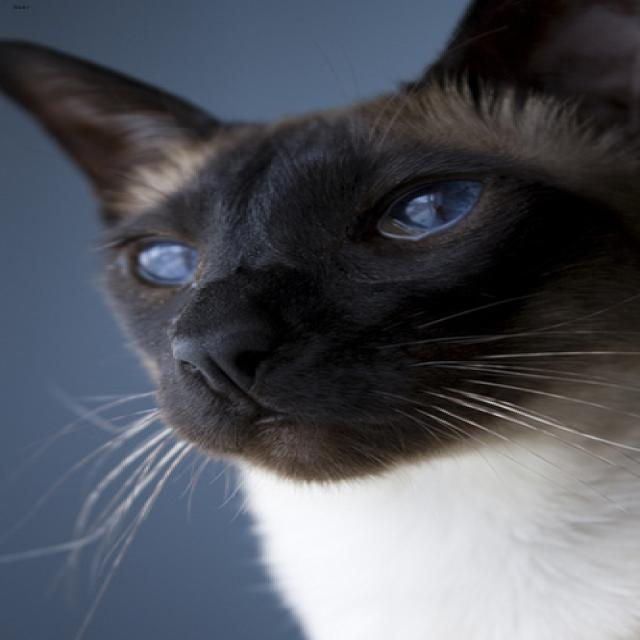Siamese: (0, 0, 638, 481)
